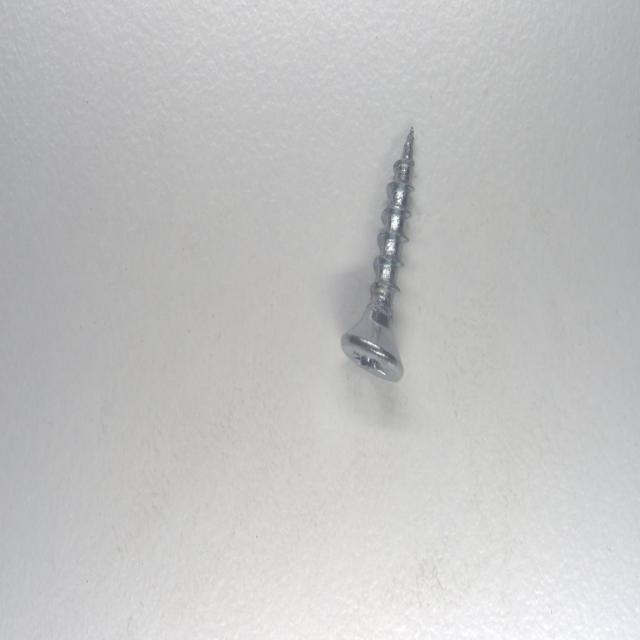Screw: (342, 126, 414, 381)
